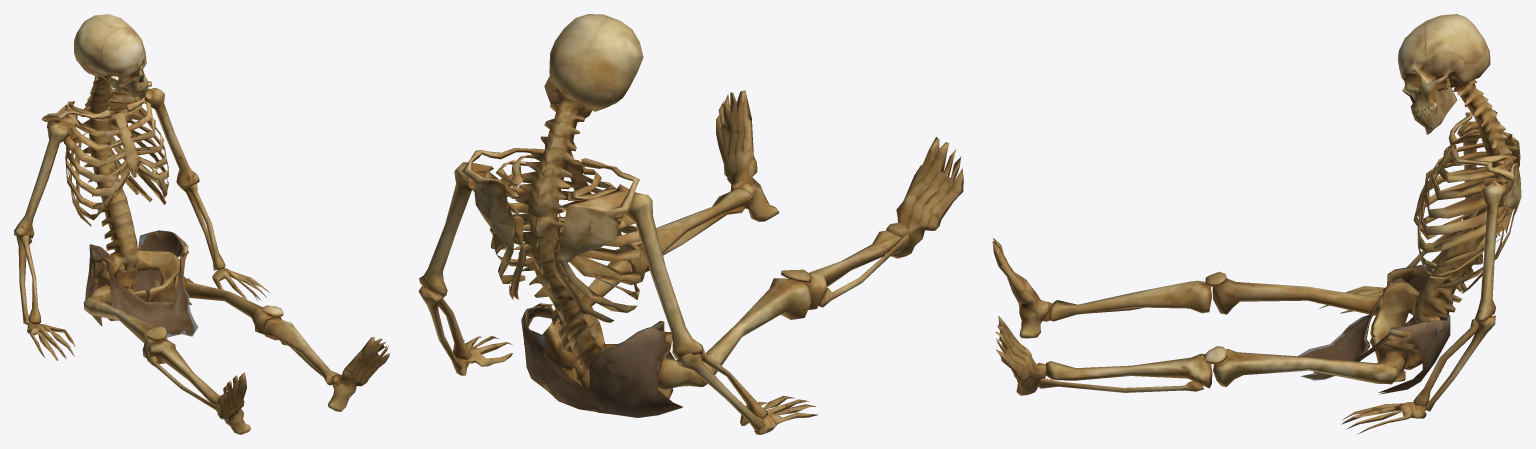
Rendered from skeleton.glb.
The picture shows the model from 3 angles, left to right: view 1: azimuth 30°, elevation 25°; view 2: azimuth 150°, elevation 25°; view 3: azimuth 270°, elevation 25°; orthographic projection. The views are drawn at different scales.
Visible parts, largest first — view 1: geometry_0; view 2: geometry_0; view 3: geometry_0.
Boxes of the visible parts, left/top/right/bottom form: geometry_0: left=14, top=14, right=389, bottom=434; geometry_0: left=418, top=14, right=963, bottom=434; geometry_0: left=992, top=14, right=1521, bottom=434.
Bounding box in the file's own units: 0.7706 × 0.8855 × 1.23.
1 material, 1 textured.
